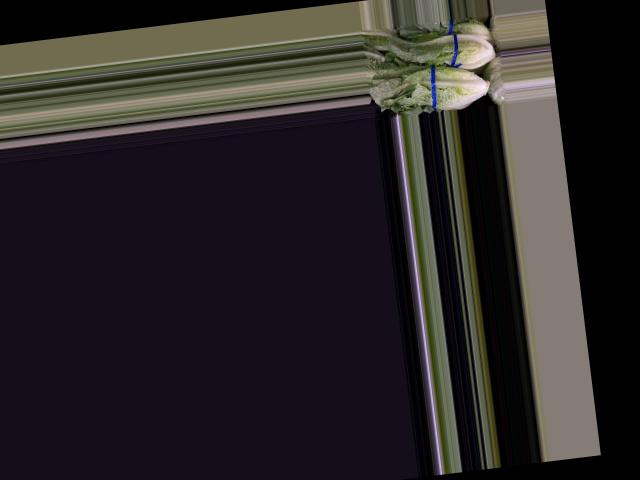lettuce: (385, 20, 498, 79)
